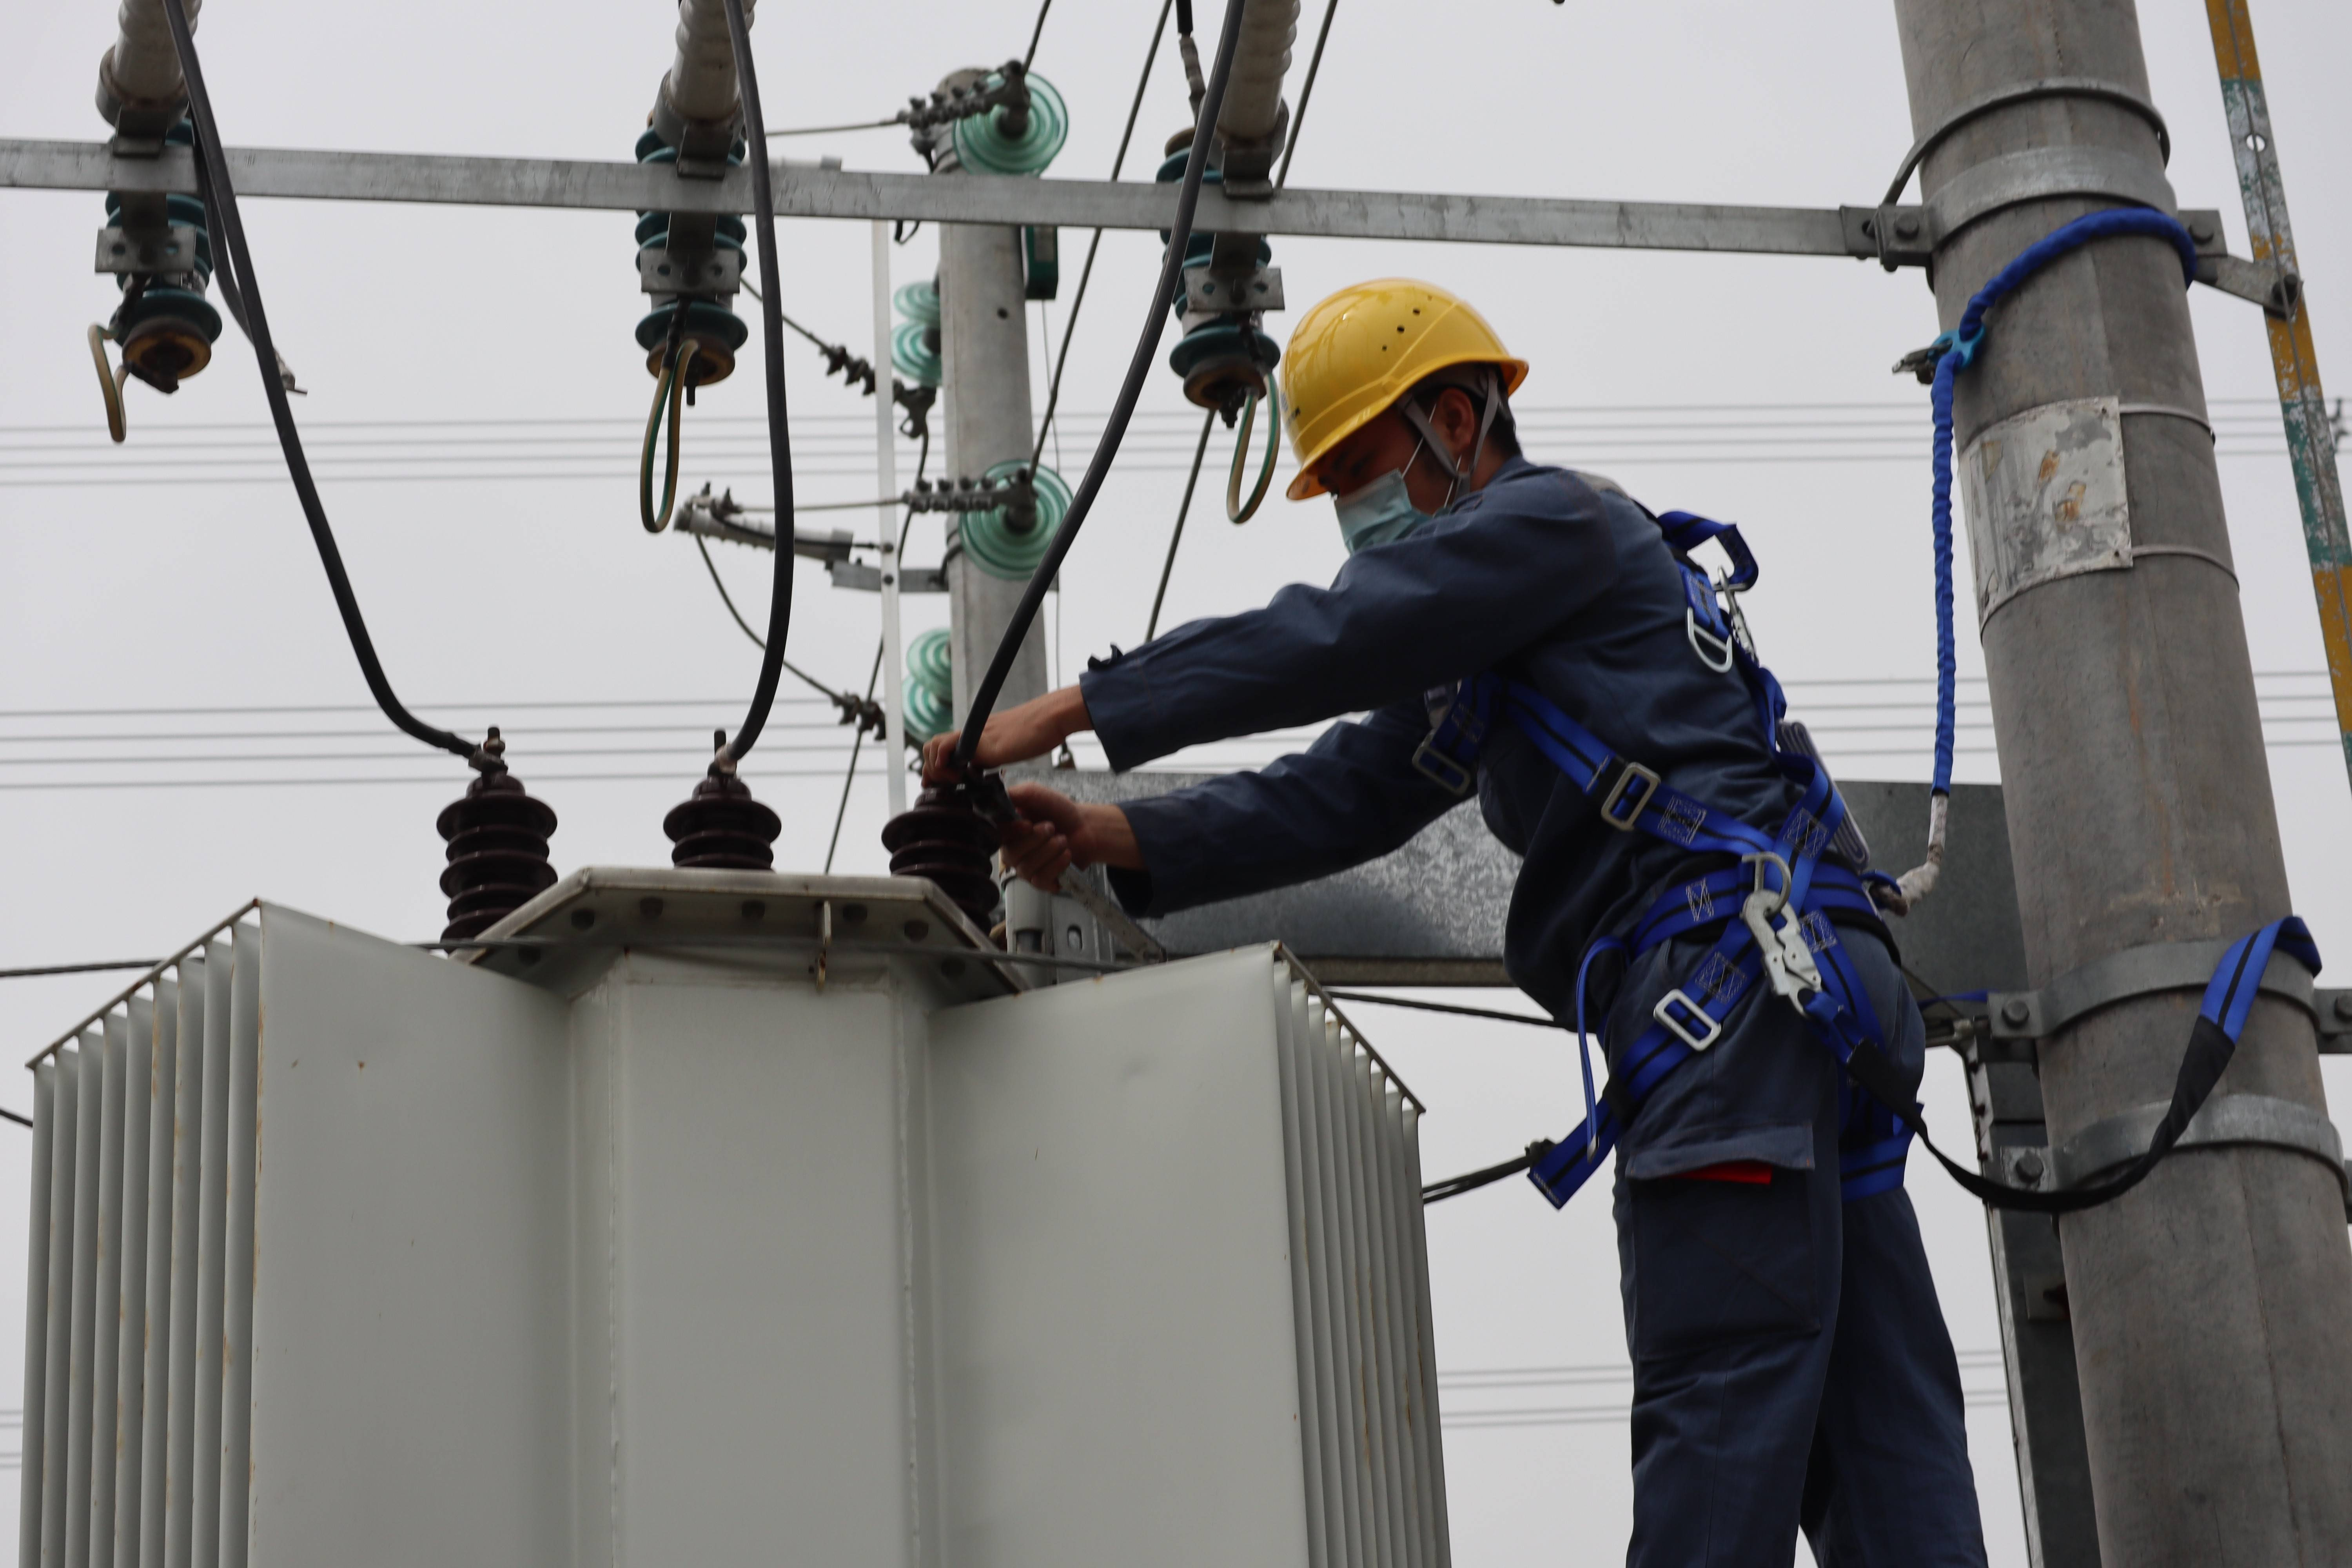downsuit: (1592, 905, 1988, 1565)
upsuit: (1094, 464, 1871, 877)
